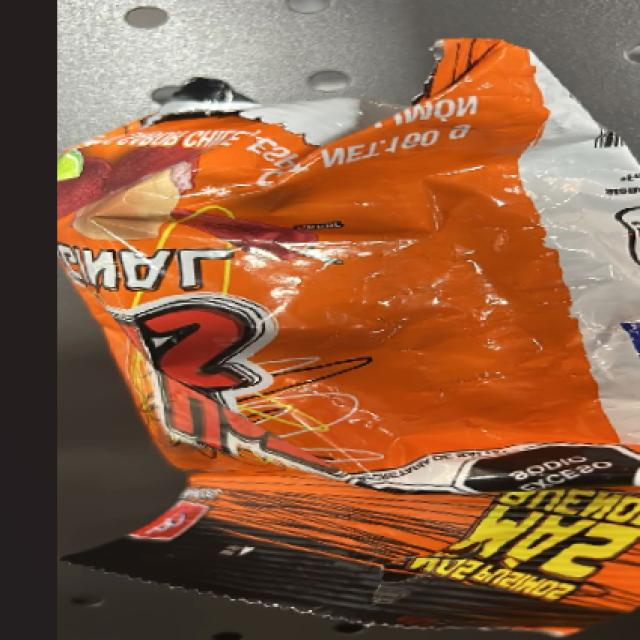hotNutsOriginal: (78, 137, 546, 608)
